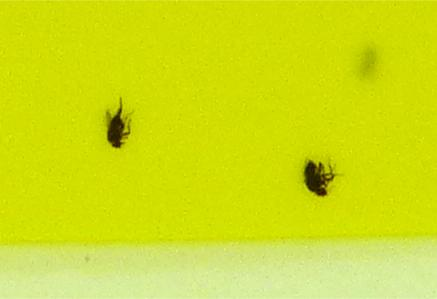Brachycera: (100, 100, 135, 152), (299, 158, 337, 199)
